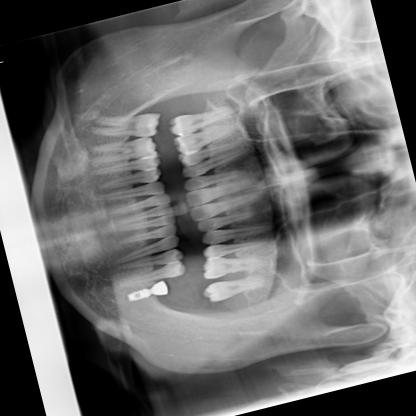Bicon: (121, 279, 170, 307)
